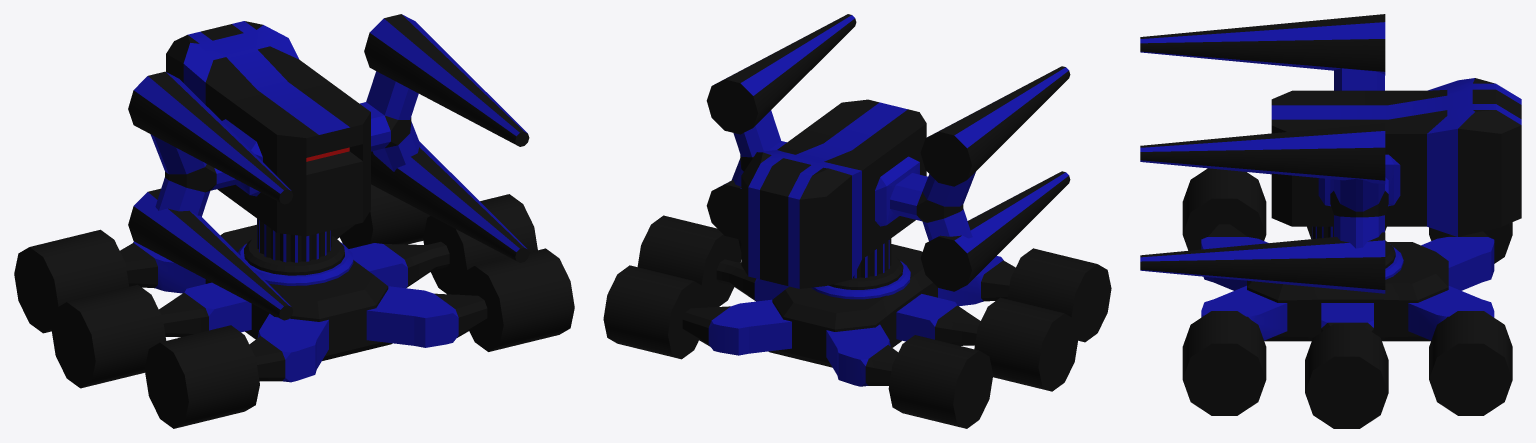
File: LowPolyBoi.fbx
The picture shows the model from 3 angles, left to right: view 1: azimuth 30°, elevation 25°; view 2: azimuth 150°, elevation 25°; view 3: azimuth 270°, elevation 25°; orthographic projection. The views are drawn at different scales.
Parts seen in each view (by area): view 1: Guns, TopBody, Wheels1, Wheels3, BottomSidesMain, GunsLines, Wheels2, WheelSides, WheelBase, BaseLines, BaseArms, RotorBase (+4 smaller); view 2: TopBody, Guns, Wheels2, Wheels3, BottomSidesMain, WheelBase, BaseLines, Wheels1, WheelSides, BaseArms, GunsLines, RotorBase (+2 smaller); view 3: Guns, TopBody, Wheels1, GunsLines, BottomSidesMain, Wheels2, WheelBase, BaseLines, Wheels3, BaseArms, BaseSides, WheelSides (+1 smaller).
Part boxes in pixels (box(x1,y1,x2,y2)): Guns: box(128, 14, 529, 320); TopBody: box(165, 21, 411, 236); Wheels1: box(144, 248, 574, 428); Wheels3: box(51, 194, 537, 388); BottomSidesMain: box(133, 241, 458, 382); GunsLines: box(134, 14, 527, 309); Wheels2: box(14, 184, 430, 333); WheelSides: box(120, 224, 487, 381); WheelBase: box(205, 224, 392, 360); BaseLines: box(183, 21, 349, 134); BaseArms: box(150, 71, 421, 216); RotorBase: box(244, 219, 344, 275); TopBody: box(740, 99, 963, 288); Guns: box(706, 14, 1070, 291); Wheels2: box(603, 265, 993, 428); Wheels3: box(637, 215, 1078, 391); BottomSidesMain: box(708, 256, 1003, 386); WheelBase: box(768, 244, 937, 367); BaseLines: box(748, 102, 907, 288); Wheels1: box(738, 239, 1111, 342); WheelSides: box(682, 259, 1015, 385); BaseArms: box(731, 110, 975, 241); GunsLines: box(722, 15, 1068, 253); RotorBase: box(828, 238, 903, 289); Guns: box(1140, 14, 1385, 289); TopBody: box(1271, 78, 1521, 236); Wheels1: box(1182, 168, 1266, 415); GunsLines: box(1140, 22, 1385, 293); BottomSidesMain: box(1201, 237, 1494, 340); Wheels2: box(1429, 222, 1512, 415); WheelBase: box(1247, 242, 1448, 341); BaseLines: box(1271, 78, 1521, 236); Wheels3: box(1305, 226, 1388, 428); BaseArms: box(1330, 68, 1388, 248); BaseSides: box(1318, 154, 1400, 206); WheelSides: box(1207, 224, 1488, 332).
Bounding box in the file's own units: 0.00791 × 0.0046 × 0.00624.
